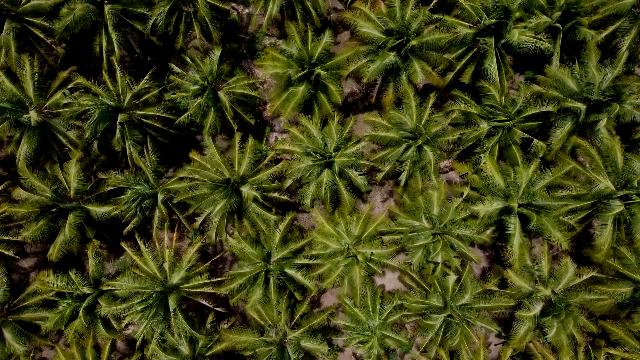trees: (99, 227, 232, 354), (171, 130, 296, 248), (5, 147, 128, 261), (208, 210, 324, 328), (437, 76, 561, 185), (488, 246, 606, 357), (425, 3, 550, 104), (527, 20, 639, 131), (360, 82, 465, 193), (254, 12, 357, 125), (3, 39, 91, 168), (396, 254, 502, 357), (304, 201, 409, 304), (10, 264, 122, 358), (40, 2, 163, 87), (163, 41, 268, 140), (275, 110, 375, 211), (382, 174, 484, 272), (537, 107, 635, 200), (213, 302, 332, 359), (330, 290, 416, 358)
